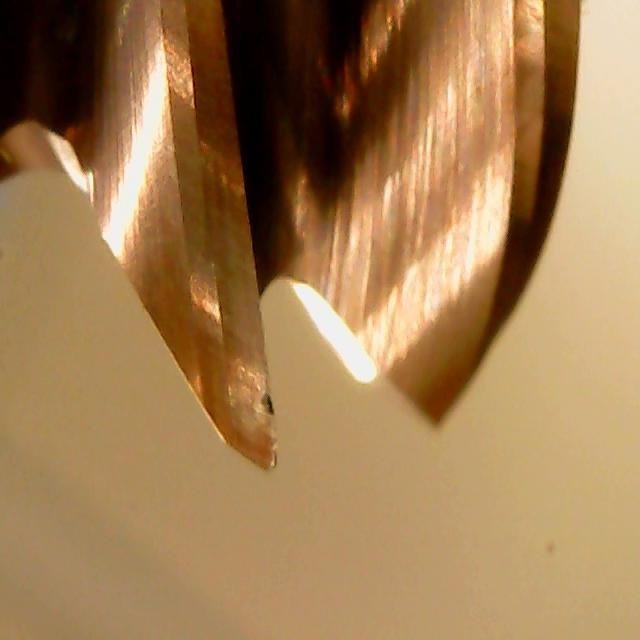Tool-wear-class-0: (172, 137, 282, 474)
